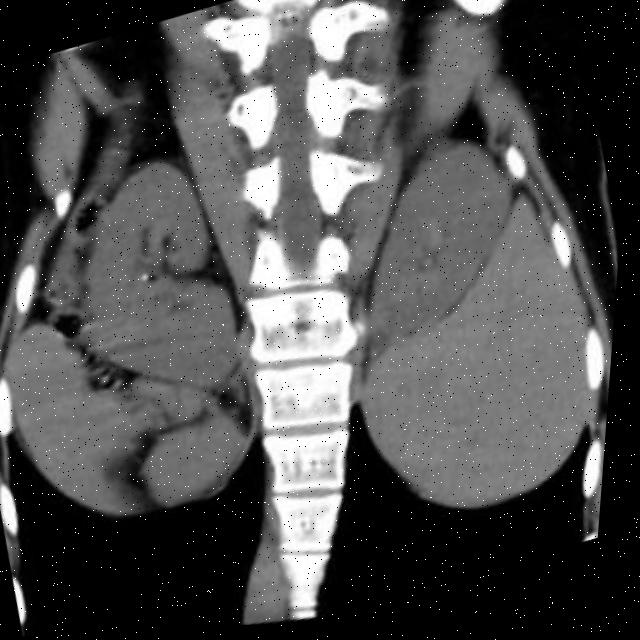Tas_Var: (143, 271, 160, 286)
